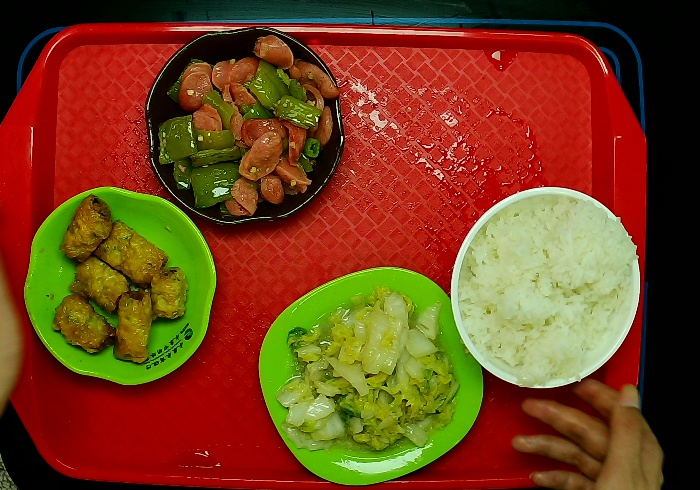YKMZ-Fan_Wan: (453, 181, 647, 395)
YKMZ-Ka_Fei_Ao_Bian_Wan: (137, 27, 343, 226)
YKMZ-Lv_Se_Ao_Bian_Wan: (22, 183, 220, 380)
YKMZ-Lv_Se_Fang_Die: (262, 268, 486, 490)
